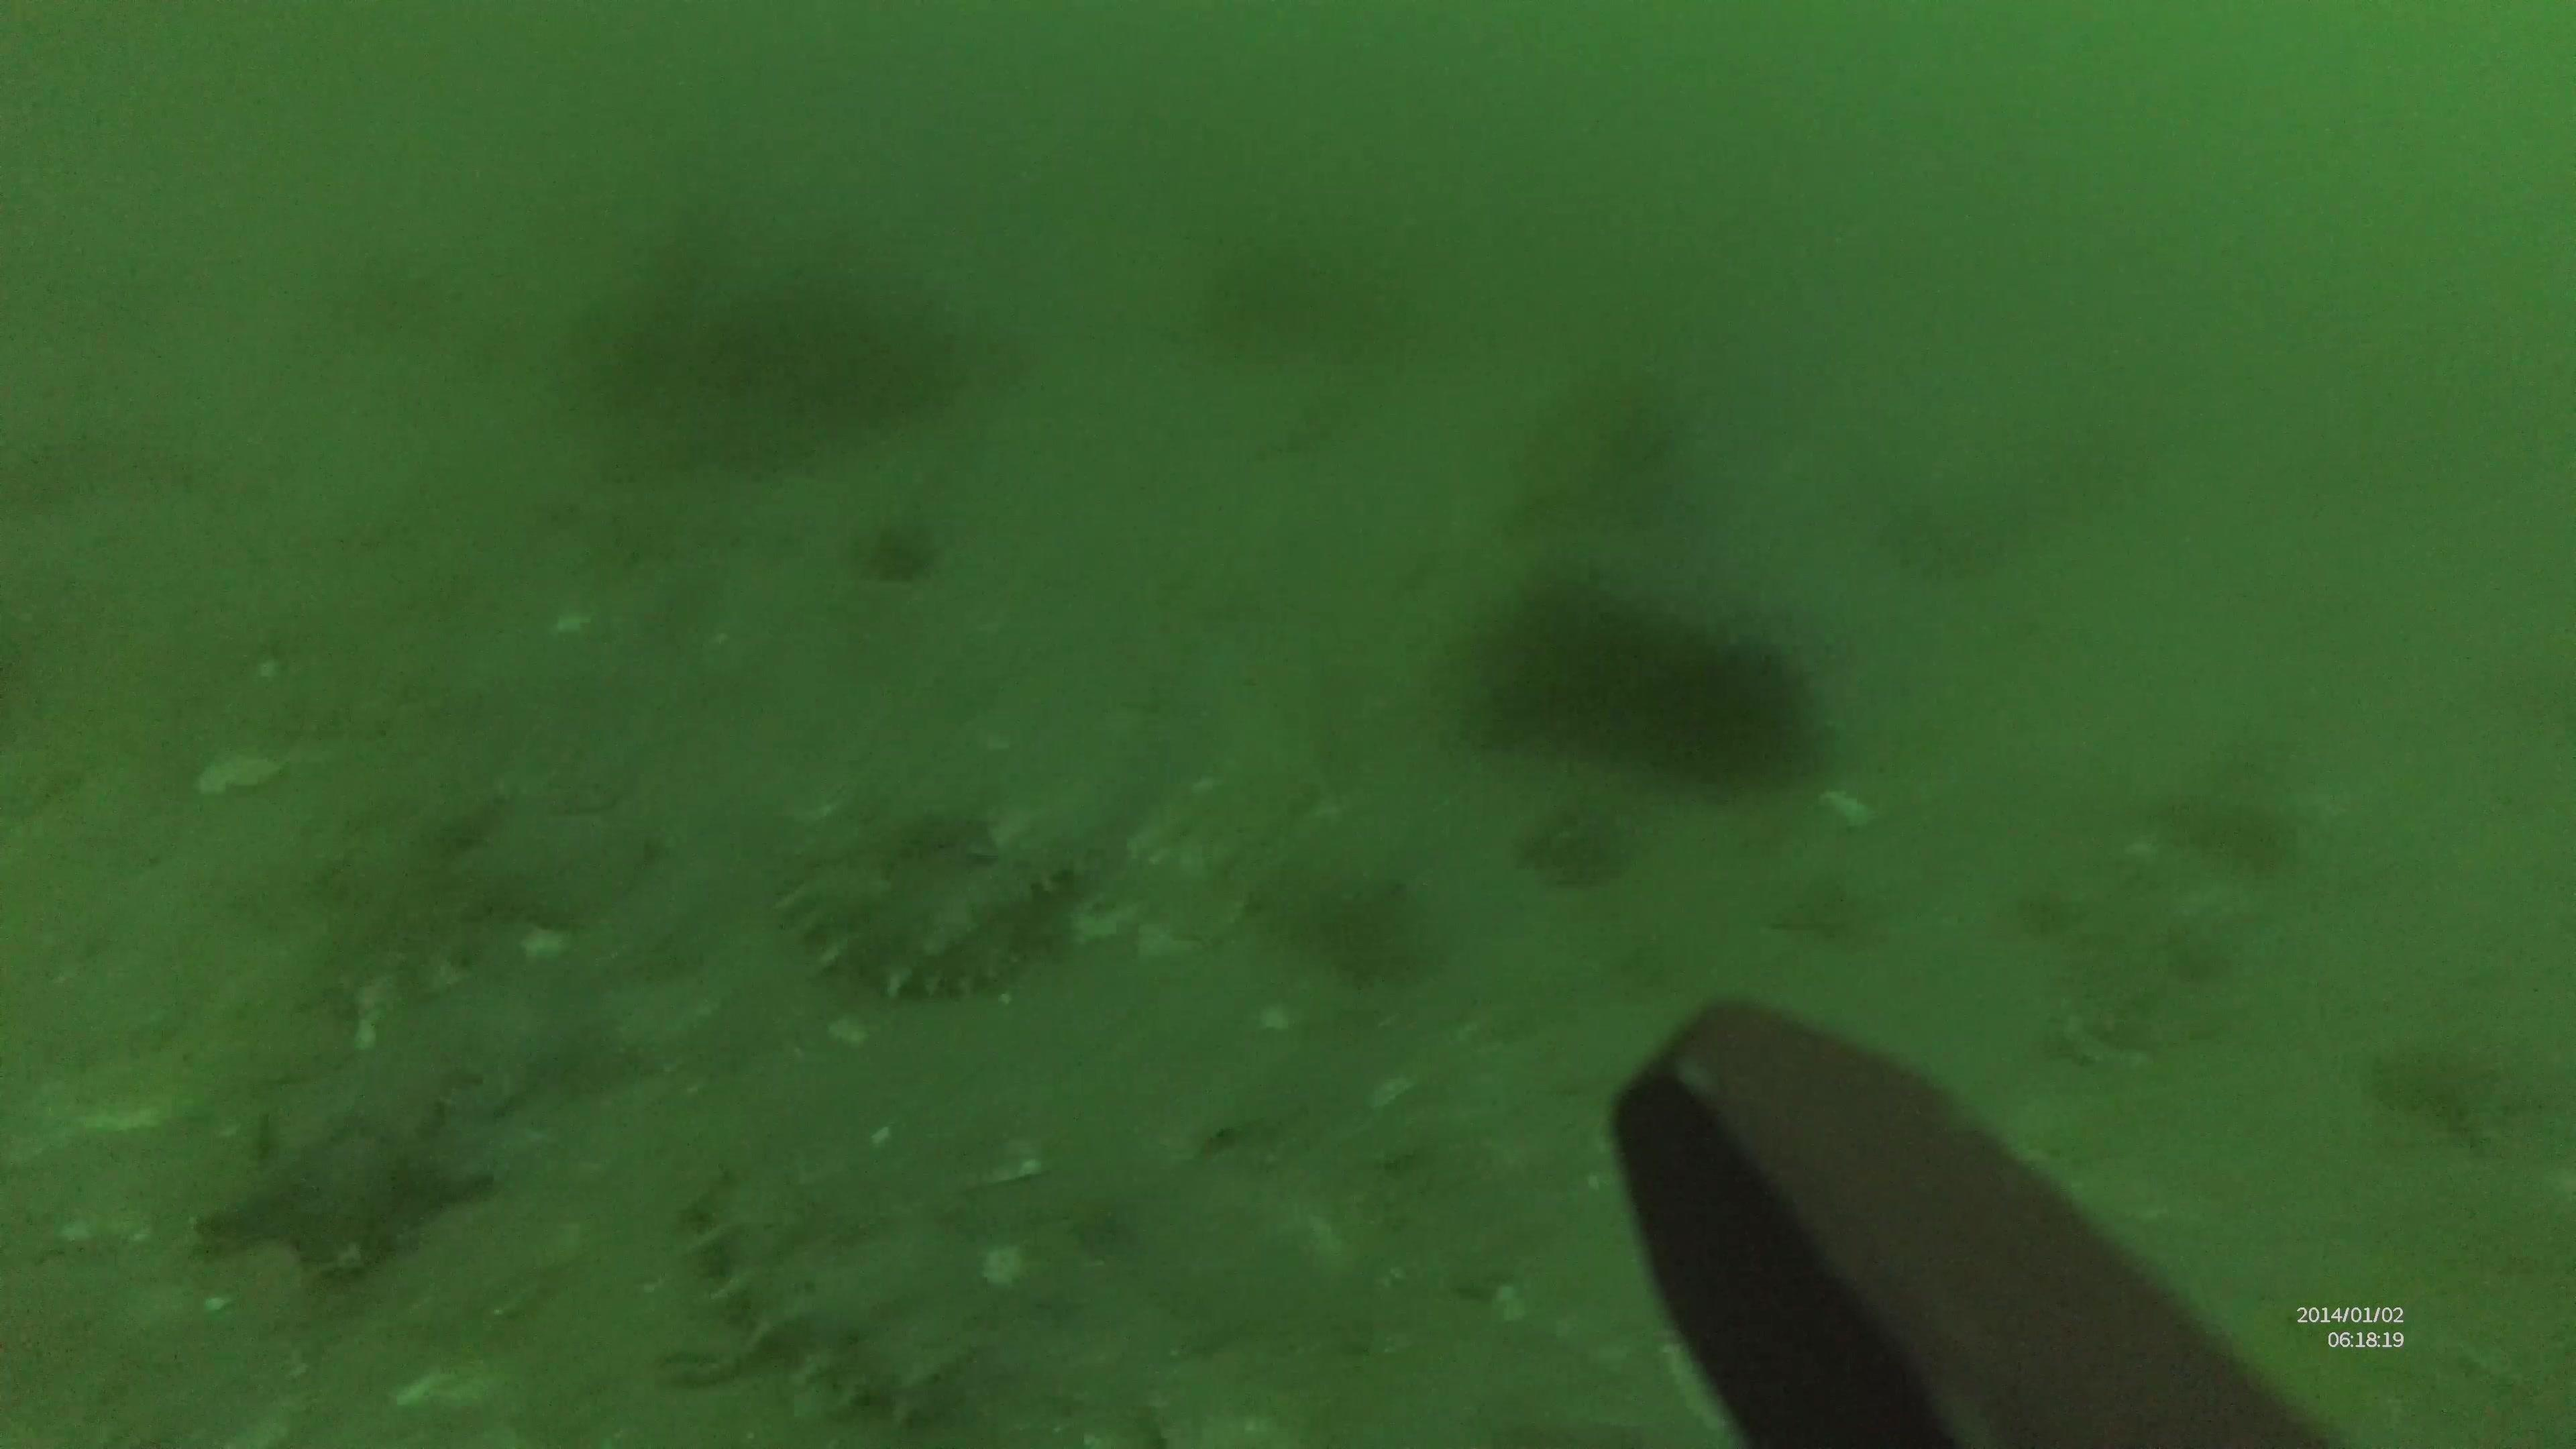echinus: (1476, 564, 1702, 759), (1614, 625, 1817, 789)
holothurian: (685, 1166, 1074, 1445), (791, 810, 1180, 993)
starfish: (202, 1076, 497, 1297)
